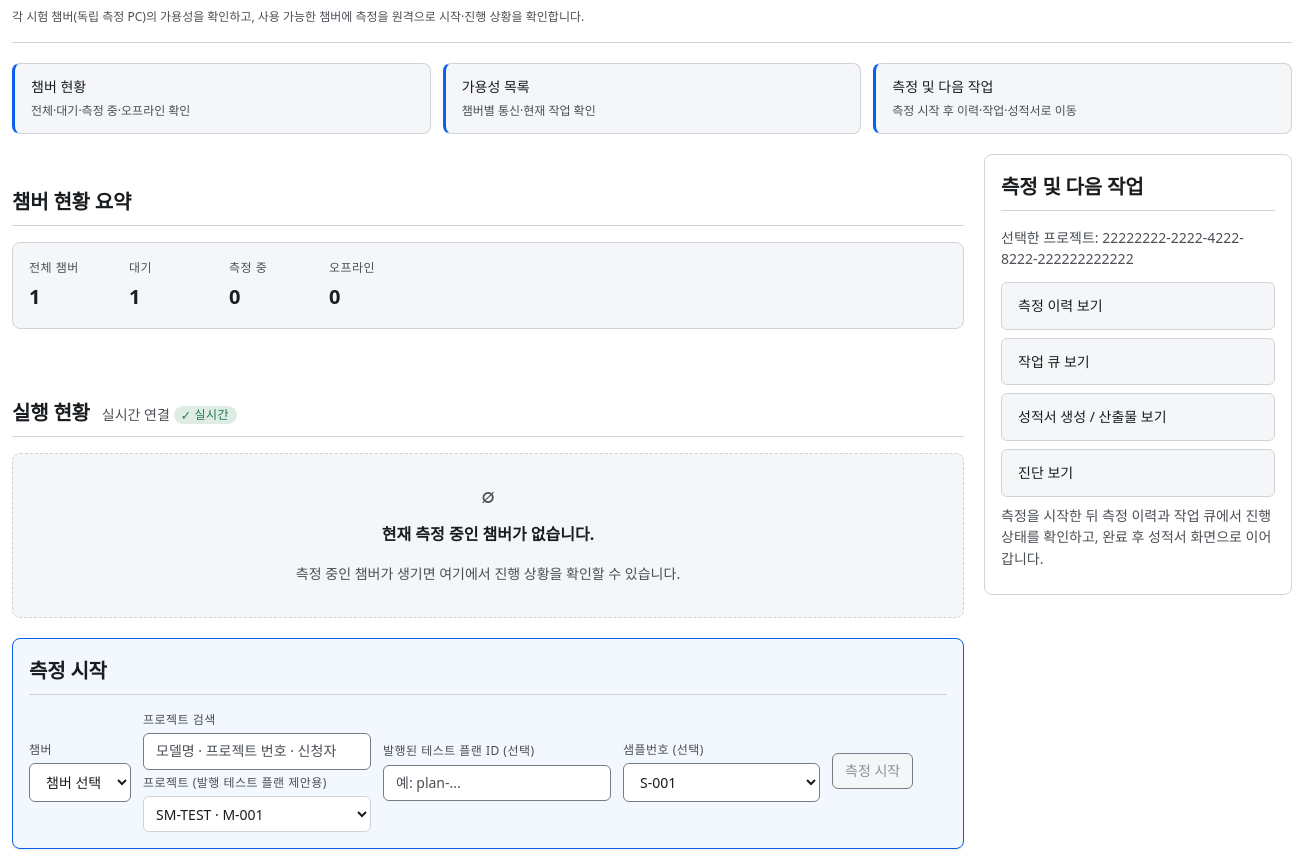
Test case: chamber start failure recovery guidance › links to diagnostics when the hub is unreachable (no status)
The image size is (1292, 866).
Check: the form with test id "chambers-start-form" is shown, box [29,711,947,832]
Select "Free" in the dropdown with test id "chambers-start-select" at (80, 783), box [29,763,131,802]
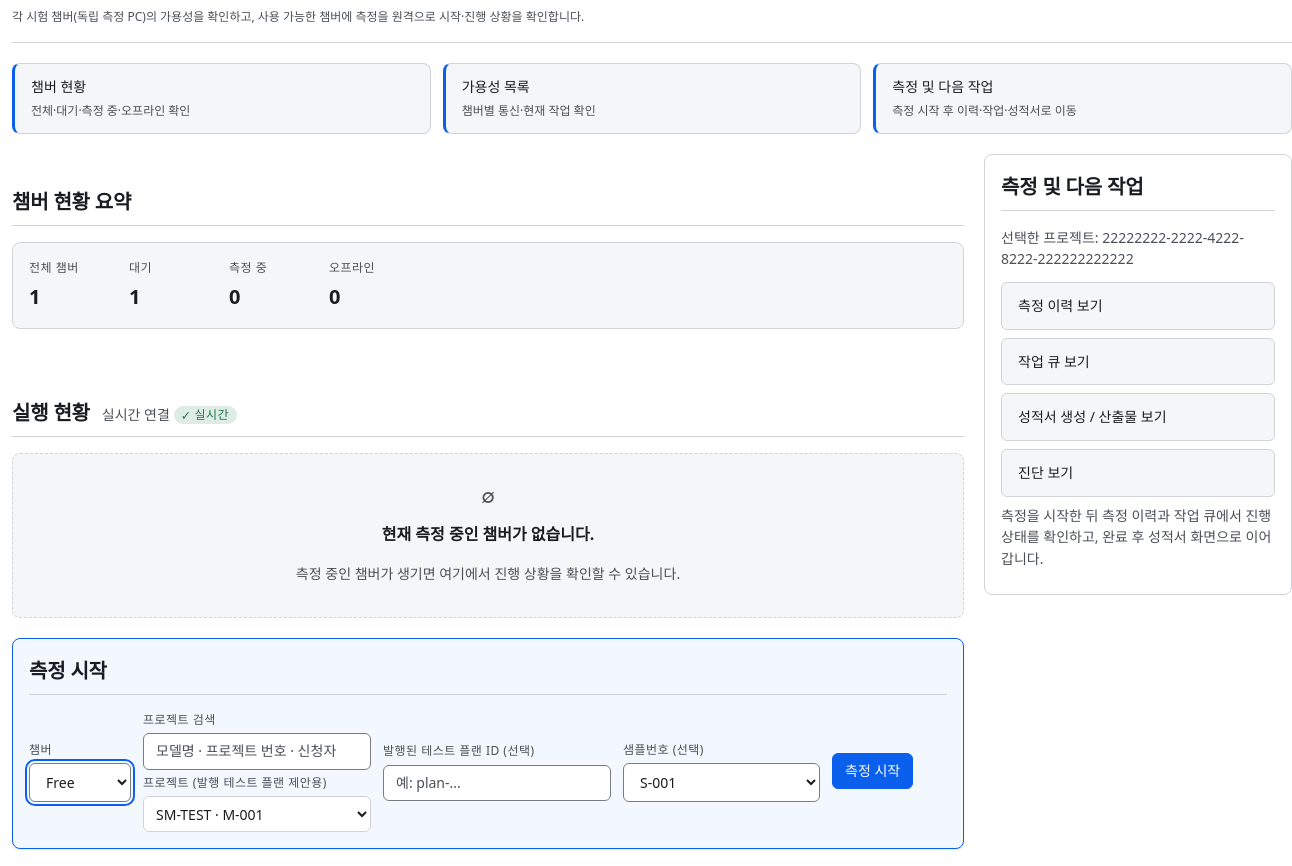
Click the button with test id "chambers-start-submit" at (873, 771), box [832,753,913,789]
(page scrolled)
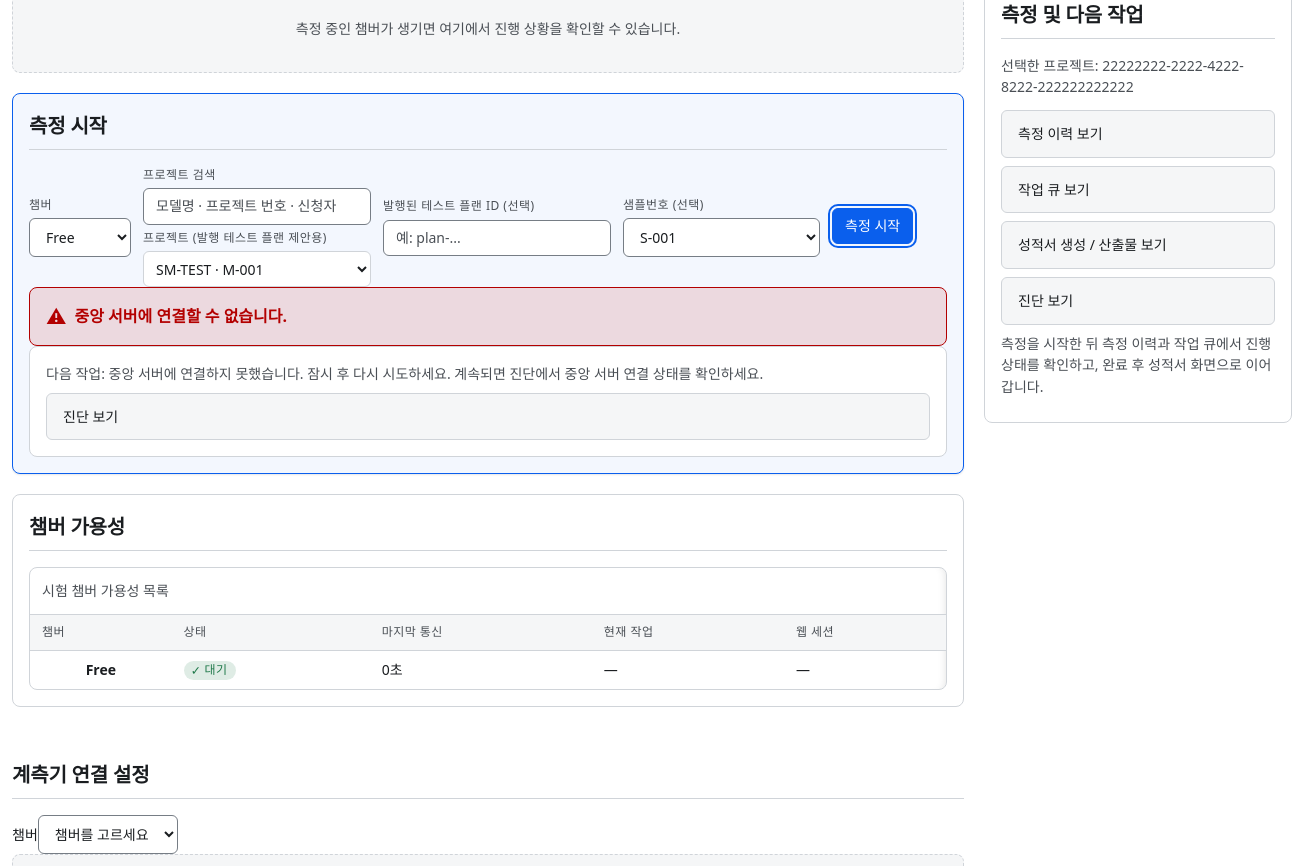
Check: the message "중앙 서버에 연결할 수 없습니다." is shown, box [29,287,947,346]
